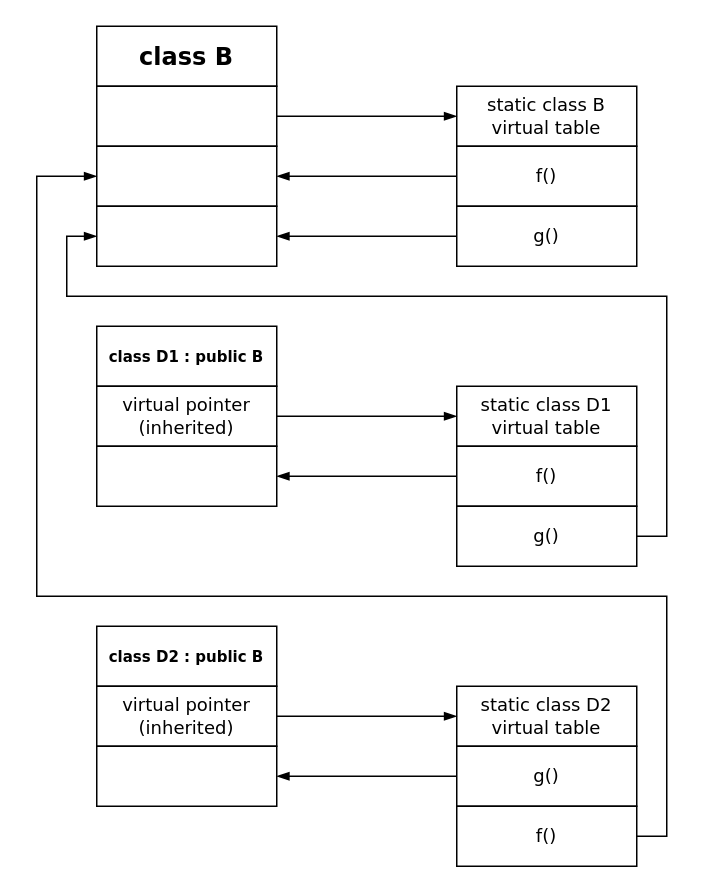
Some shapes in this 705 by 893 pixel diagram are drawn without their labels. Each missing label, with the centre of its shape:
"f() override" belongs at [186,475].
"g() override" belongs at [186,775].
"virtual f()" belongs at [186,175].
"virtual g()" belongs at [186,235].
"virtual pointer" belongs at [186,115].
